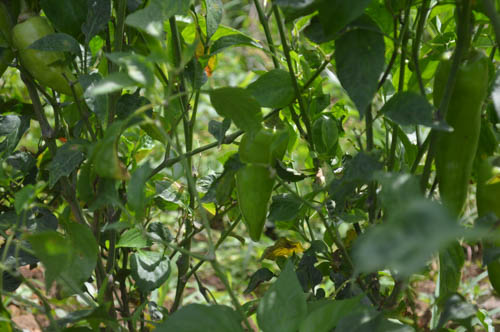ChiliPepper: (435, 56, 488, 222), (232, 125, 287, 242), (13, 19, 80, 94), (475, 181, 499, 297)
